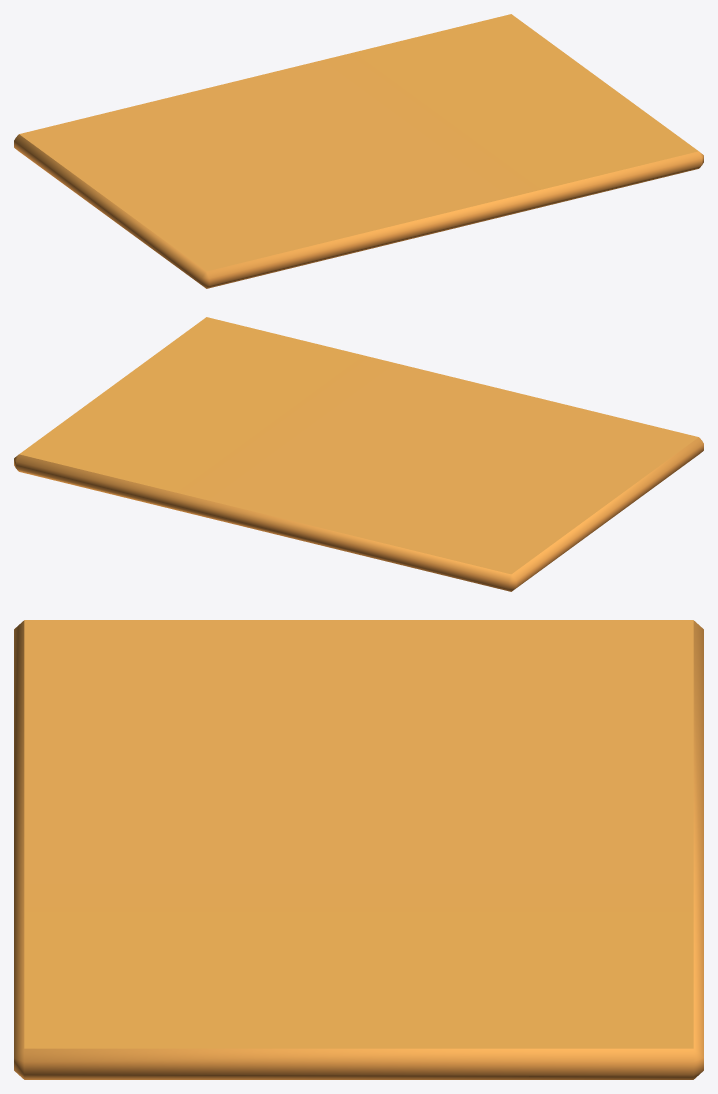
File: kkf.rug_rectangle_a.glb
3 renders of one model, top to bottom at view 1: azimuth 30°, elevation 25°; view 2: azimuth 150°, elevation 25°; view 3: azimuth 270°, elevation 25°, orthographic. The views are drawn at different scales.
Visible parts, largest first — view 1: rug_rectangle_A; view 2: rug_rectangle_A; view 3: rug_rectangle_A.
Part boxes in pixels (box(x1,y1,x2,y2)): rug_rectangle_A: box(14, 14, 703, 288); rug_rectangle_A: box(14, 317, 703, 591); rug_rectangle_A: box(14, 620, 703, 1079).
Size of the model in its own units: 2.15 by 0.0715 by 1.43.
1 material, 1 textured.
